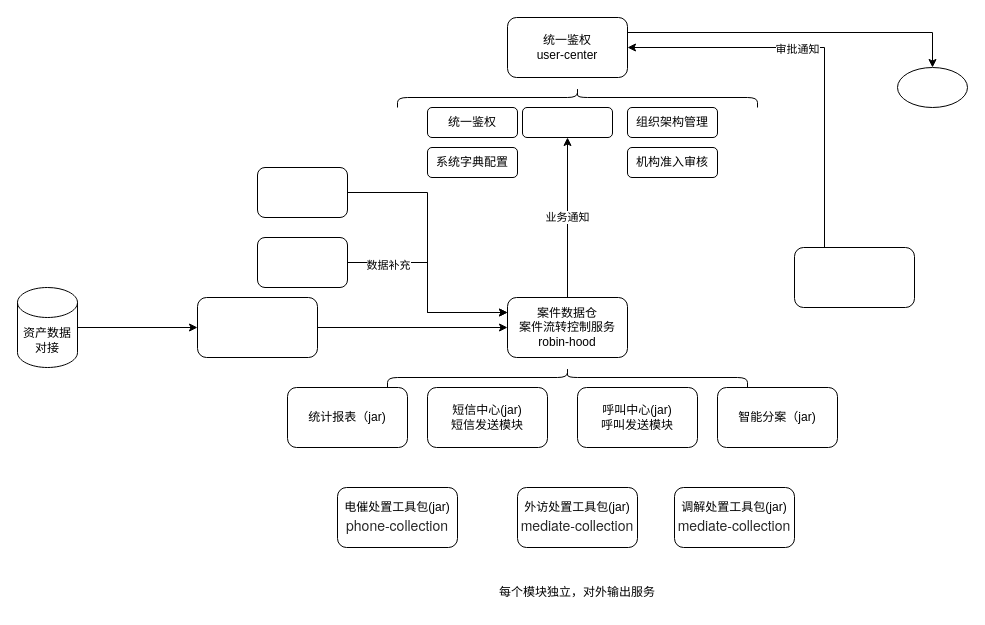
This 985x625 diagram has some shape labels left out. Each missing label, with the centre of its shape:
"数据接入工具 data-docking" belongs at (x=257, y=327).
"模型平台" belongs at (x=302, y=262).
"用户消息通知" belongs at (x=567, y=122).
"统一任务调度 xxl-job" belongs at (x=302, y=192).
"统一审批平台 flow-center" belongs at (x=854, y=277).
"钉钉" belongs at (x=932, y=87).
